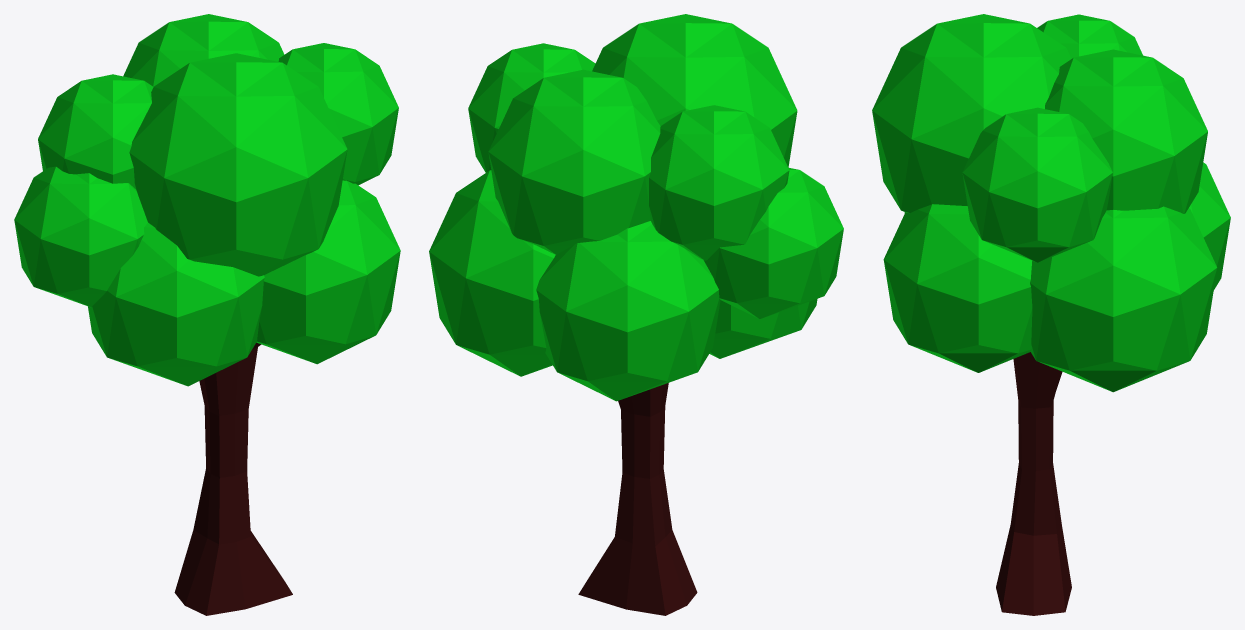
The model's file is Tree_01.FBX.
3 renders of one model, left to right at view 1: azimuth 30°, elevation 25°; view 2: azimuth 150°, elevation 25°; view 3: azimuth 270°, elevation 25°, orthographic.
Parts seen in each view (by area): view 1: tree_crown, tree_trunk; view 2: tree_crown, tree_trunk; view 3: tree_crown, tree_trunk.
Part boxes in pixels (x1,y1,x2,y2): tree_crown: (14,14,400,386); tree_trunk: (174,342,292,615); tree_crown: (429,14,843,401); tree_trunk: (578,383,697,615); tree_crown: (872,14,1230,392); tree_trunk: (996,352,1071,615).
Bounding box in the file's own units: 41.76 × 61.79 × 36.09.
